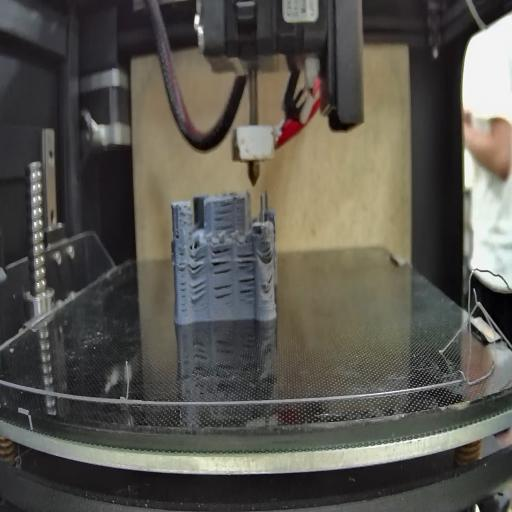cracks: (212, 200, 236, 232), (212, 249, 232, 278), (177, 253, 186, 314), (237, 276, 256, 302), (213, 284, 234, 307), (188, 280, 208, 304), (188, 250, 206, 275), (236, 250, 255, 270), (262, 243, 276, 261), (266, 270, 276, 288), (175, 224, 180, 244)
